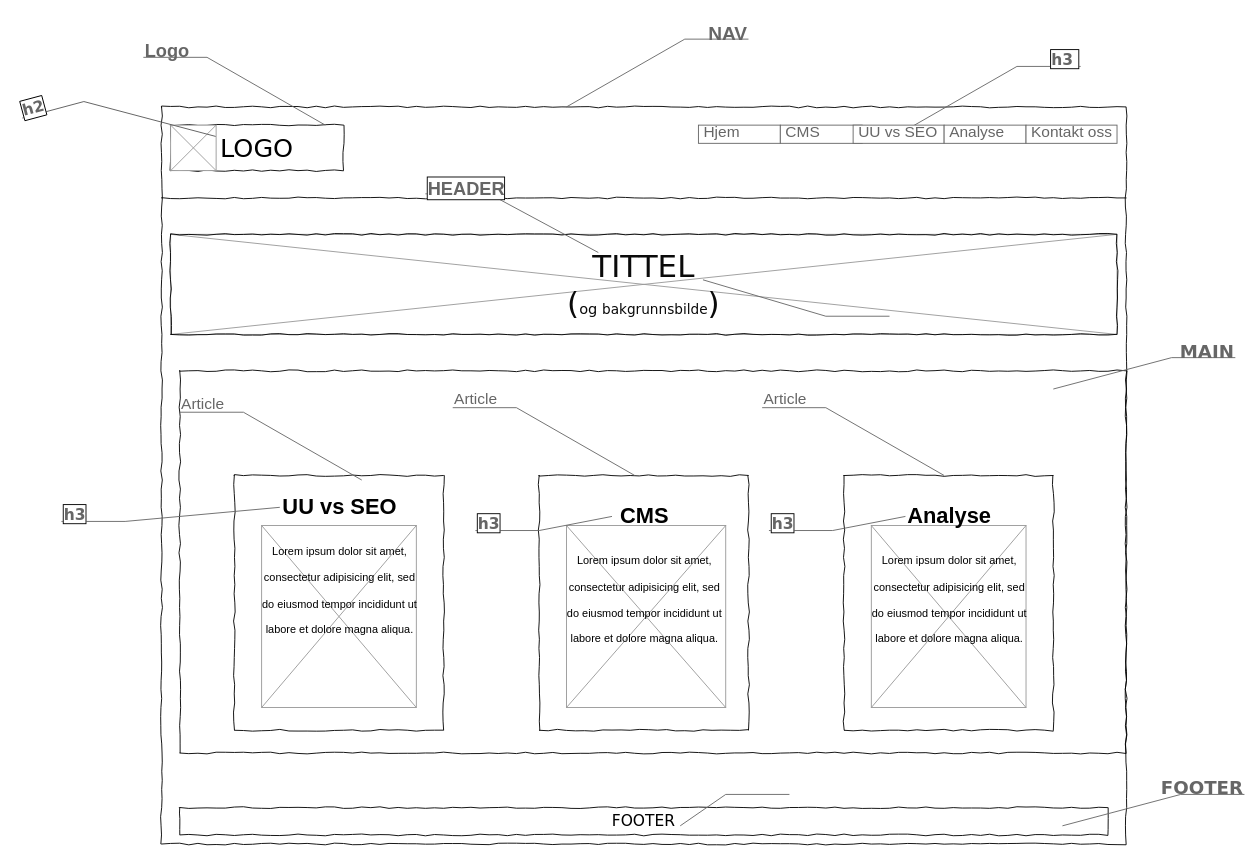
Image size: 1260x860. Some labels were removed from this diagram. The centre of each missing label's shape, as x and y in pixels:
"h1" belongs at (x=796, y=297).
"h4" belongs at (x=734, y=798).
